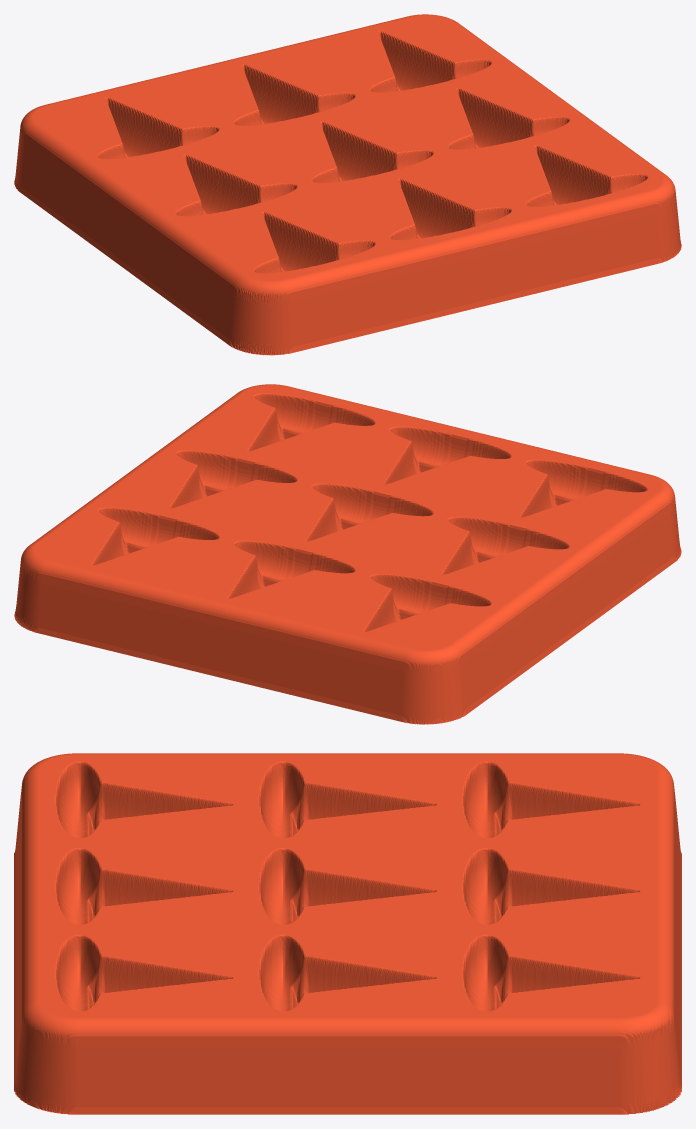
The model's file is mold.glb.
3 views of the same model, one above another, from view 1: azimuth 30°, elevation 25°; view 2: azimuth 150°, elevation 25°; view 3: azimuth 270°, elevation 25° (orthographic). The views are drawn at different scales.
Visible parts, largest first — view 1: geometry_0; view 2: geometry_0; view 3: geometry_0.
Boxes of the visible parts, <box> form: geometry_0: <box>14,14,681,355</box>; geometry_0: <box>14,384,681,724</box>; geometry_0: <box>14,753,681,1114</box>.
Bounding box in the file's own units: 0.0964 × 0.0136 × 0.0958.
